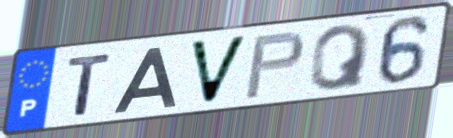6: (376, 13, 433, 87)
A: (111, 44, 180, 116)
P: (241, 29, 307, 102)
Q: (307, 22, 374, 93)
T: (65, 51, 116, 118)
V: (186, 33, 251, 107)
